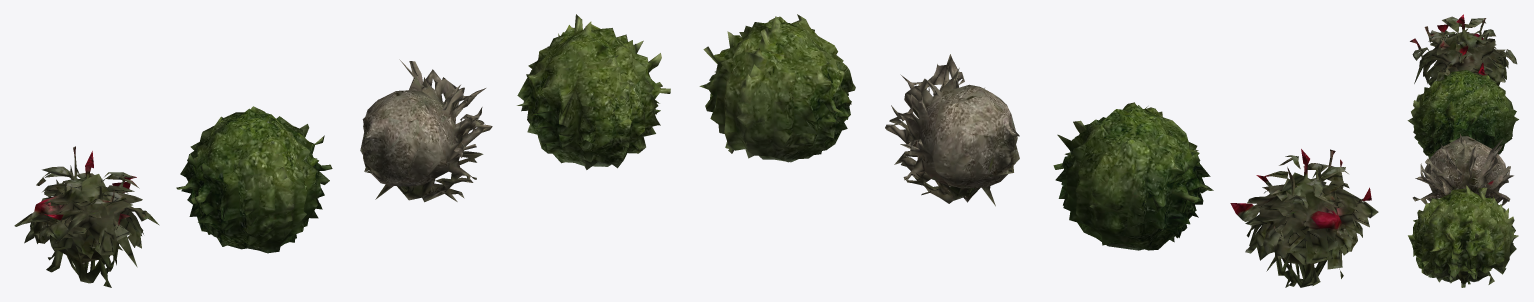
Rendered from bushes.glb.
The picture shows the model from 3 angles, left to right: view 1: azimuth 30°, elevation 25°; view 2: azimuth 150°, elevation 25°; view 3: azimuth 270°, elevation 25°; orthographic projection. The views are drawn at different scales.
Visible parts, largest first — view 1: boxwood, round, thorny, rose; view 2: boxwood, round, thorny, rose; view 3: round, boxwood, rose, thorny.
Part boxes in pixels (<box>): boxwood: <box>176,106,332,253</box>; round: <box>517,14,670,169</box>; thorny: <box>360,59,492,202</box>; rose: <box>14,146,159,287</box>; boxwood: <box>1053,102,1213,250</box>; round: <box>699,14,855,162</box>; thorny: <box>885,54,1019,206</box>; rose: <box>1230,149,1378,287</box>; round: <box>1408,185,1518,287</box>; boxwood: <box>1407,70,1518,159</box>; rose: <box>1410,14,1517,85</box>; thorny: <box>1412,133,1513,205</box>.
Bounding box in the file's own units: 1 × 0.2082 × 0.2163.
Materials: 1 (1 with a texture image).
